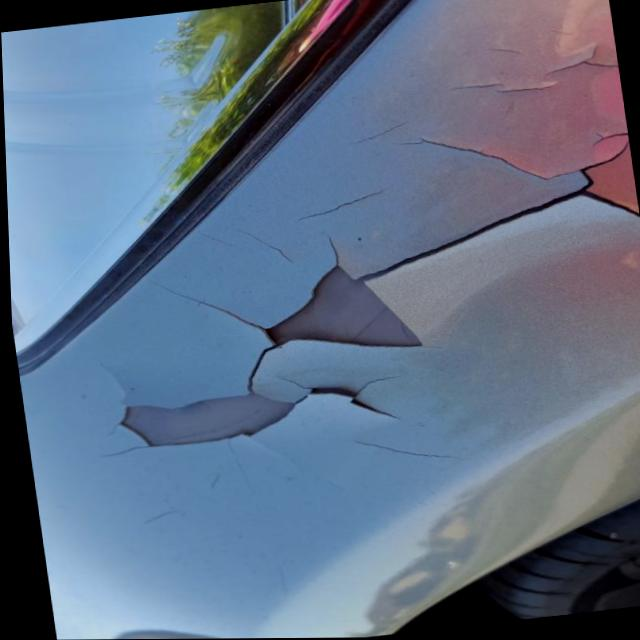Paint-Crack: (93, 136, 640, 464), (287, 184, 390, 226), (542, 42, 619, 77), (350, 439, 463, 459), (351, 119, 416, 147), (248, 231, 295, 264), (489, 82, 557, 95), (582, 128, 628, 147), (449, 80, 507, 92), (494, 47, 523, 54)
